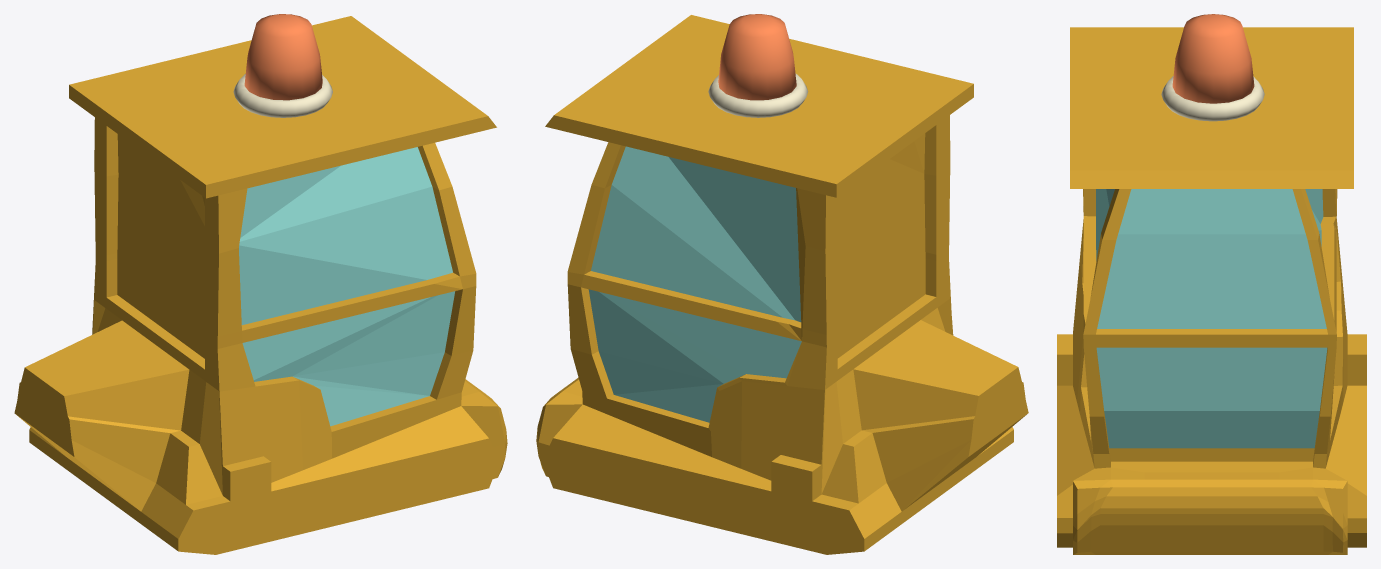
File: body.fbx
3 views of the same model, side by side, from view 1: azimuth 30°, elevation 25°; view 2: azimuth 150°, elevation 25°; view 3: azimuth 270°, elevation 25° (orthographic). The views are drawn at different scales.
Parts seen in each view (by area): view 1: body_merged; view 2: body_merged; view 3: body_merged.
Part boxes in pixels (box(x1,y1,x2,y2)): body_merged: box(14, 14, 507, 554); body_merged: box(536, 14, 1028, 554); body_merged: box(1057, 14, 1366, 554).
Size of the model in its own units: 0.7198 by 1.18 by 1.11.
